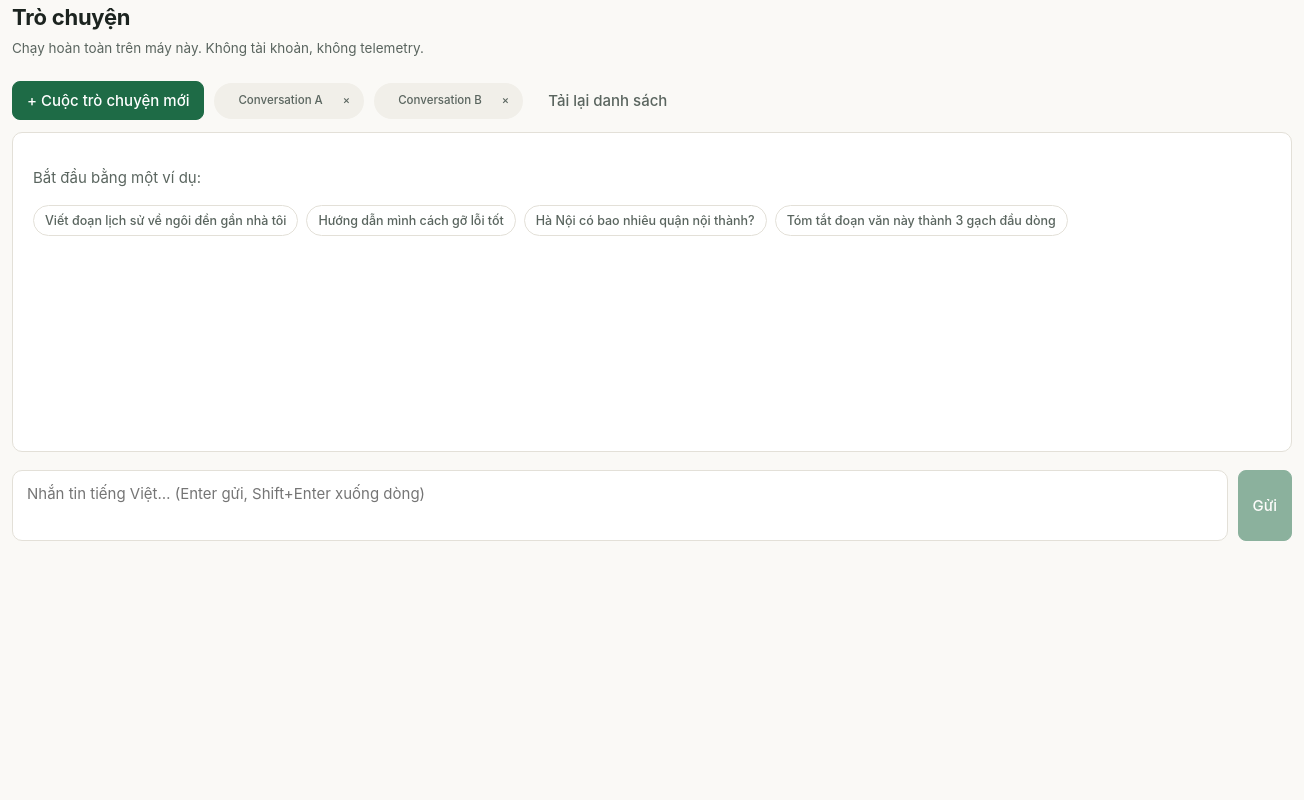
Test: preserves a new draft across list failure and ignores a stale StrictMode list response
Type "Keep" into the text box named "Tin nhắn" at coordinates (620, 506), box [12, 470, 1228, 541]
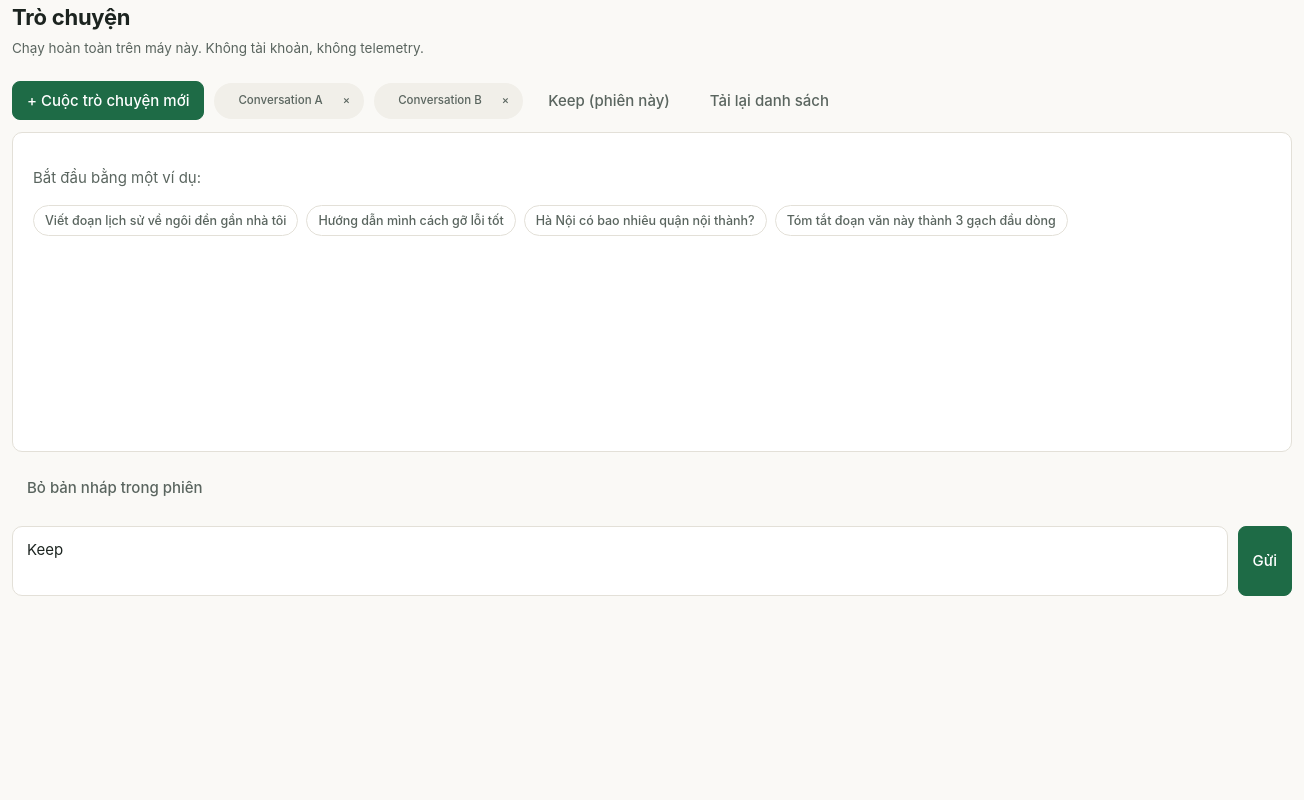
Expected: the button "Conversation A" is shown, [223, 84, 338, 118]
Click the button "Tải lại danh sách" at coordinates (769, 101), box [695, 81, 844, 120]
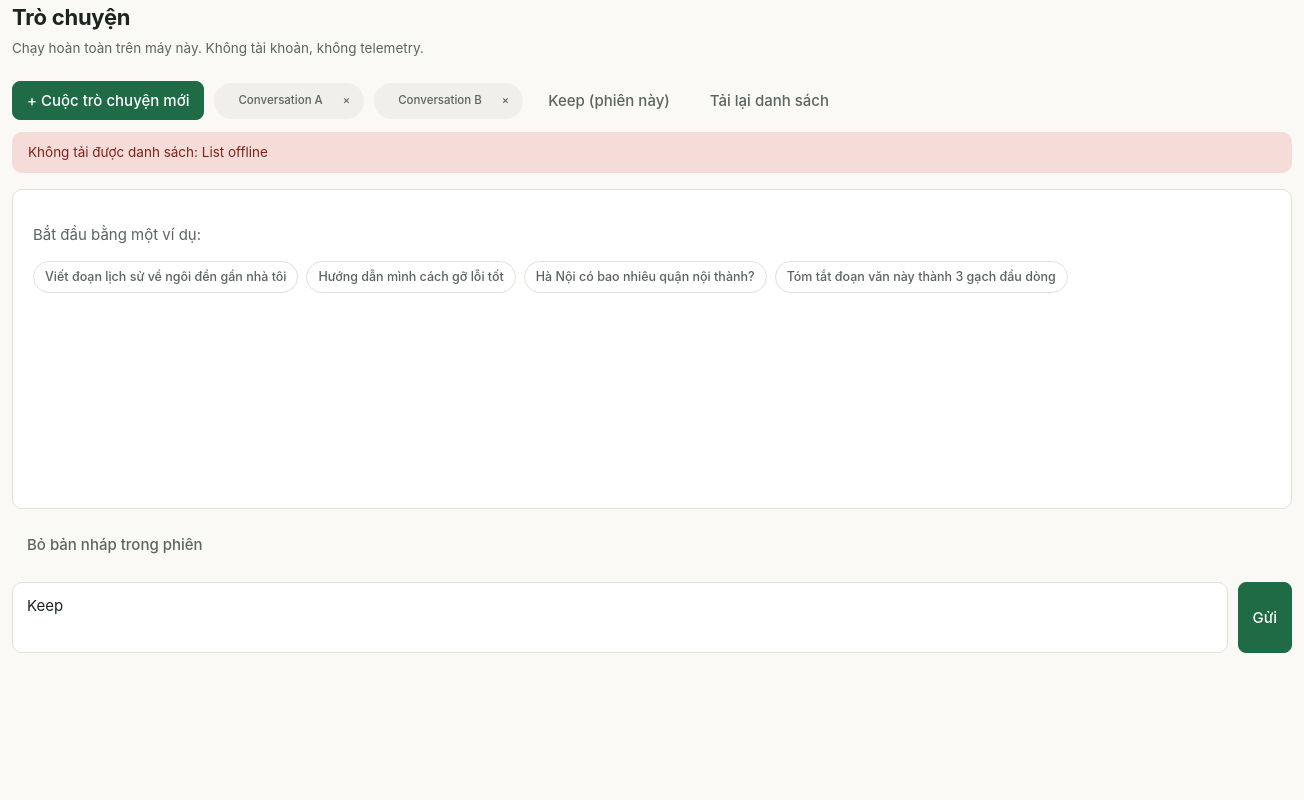
Now the message shows "List offline", box [28, 144, 268, 160]
Click the button "Tải lại danh sách" at coordinates (769, 101), box [695, 81, 844, 120]
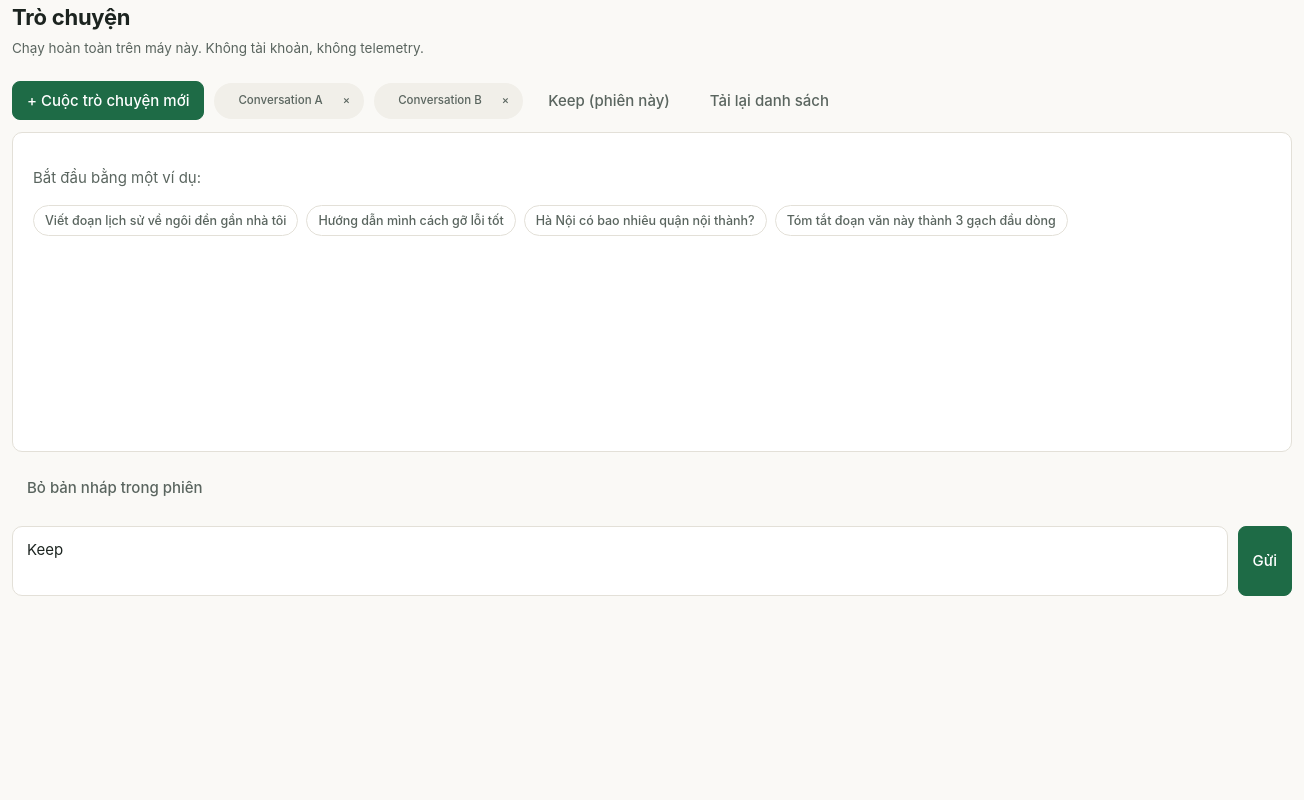
Now the message "Không tải được danh sách: List offline" is gone
